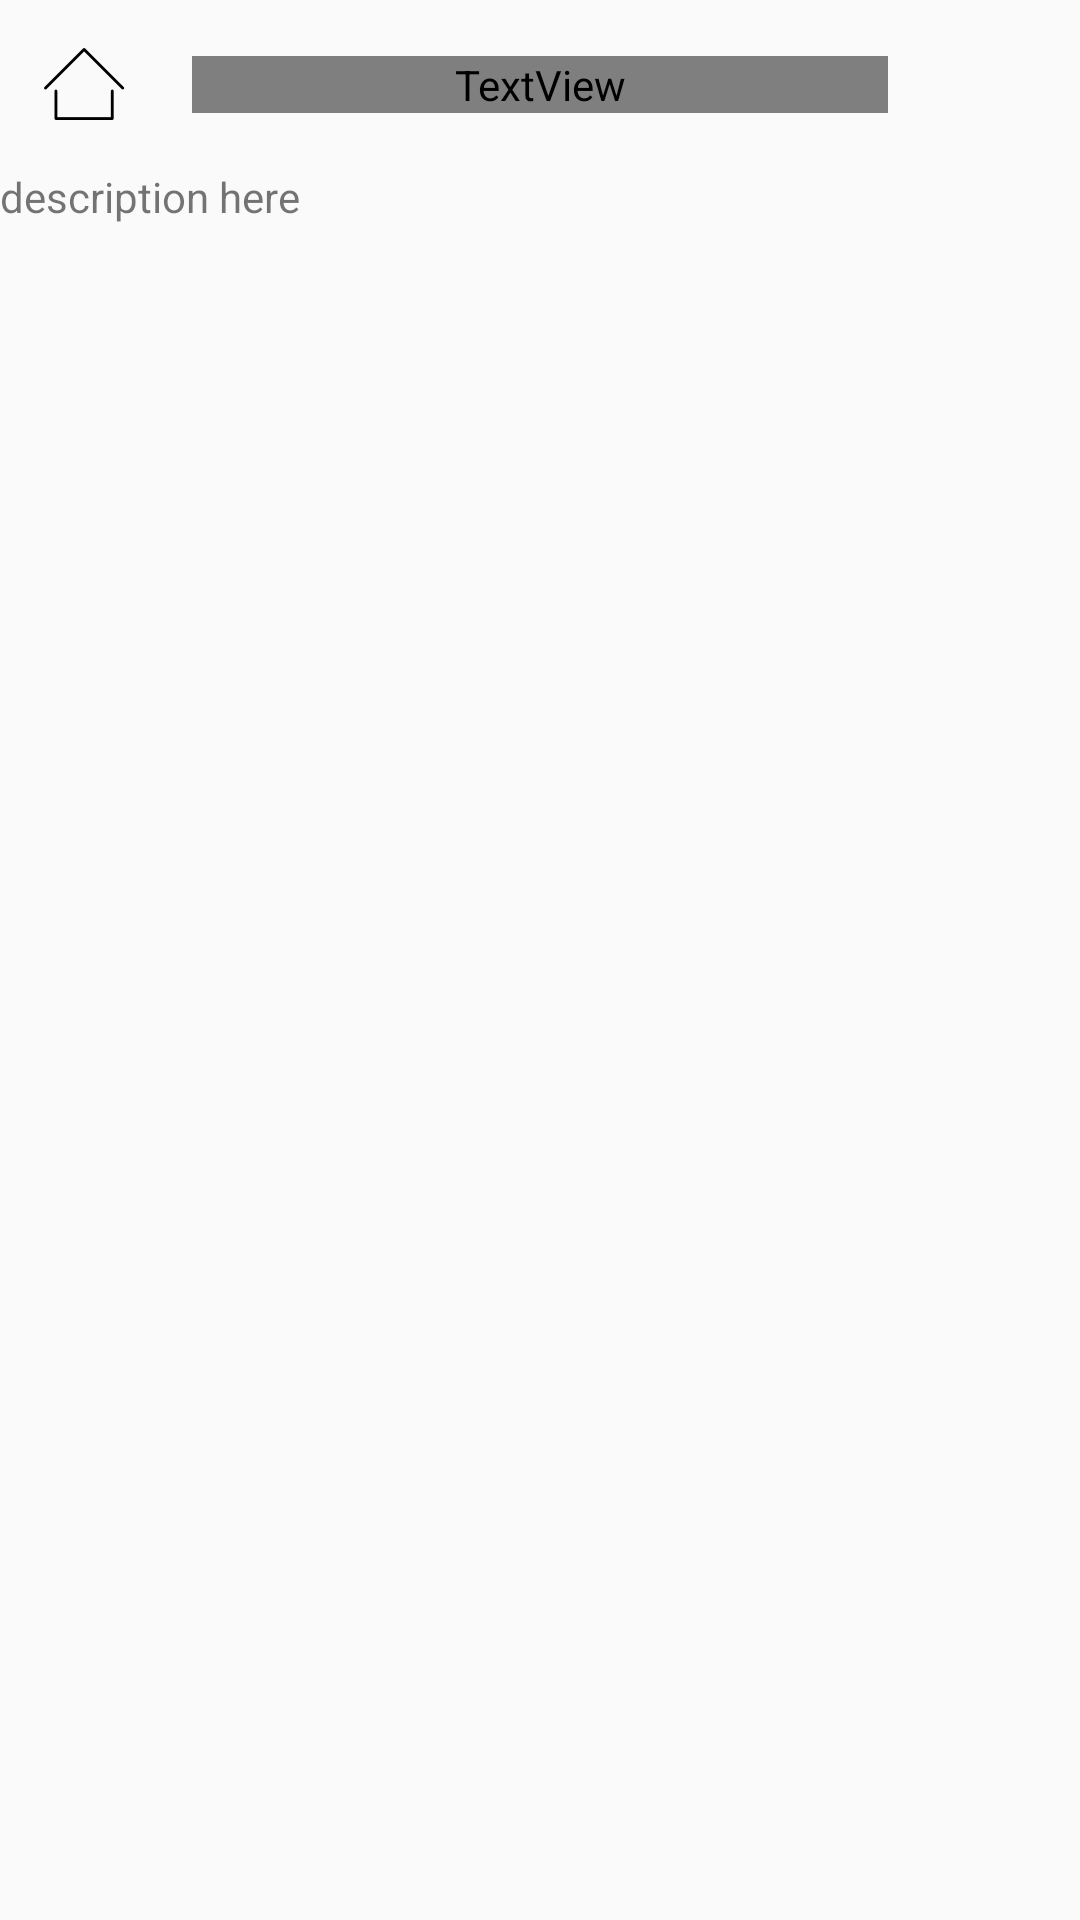

Icon click points for this 1080*1920 phone screenshot, format point (x, y):
home: point (84, 84)
